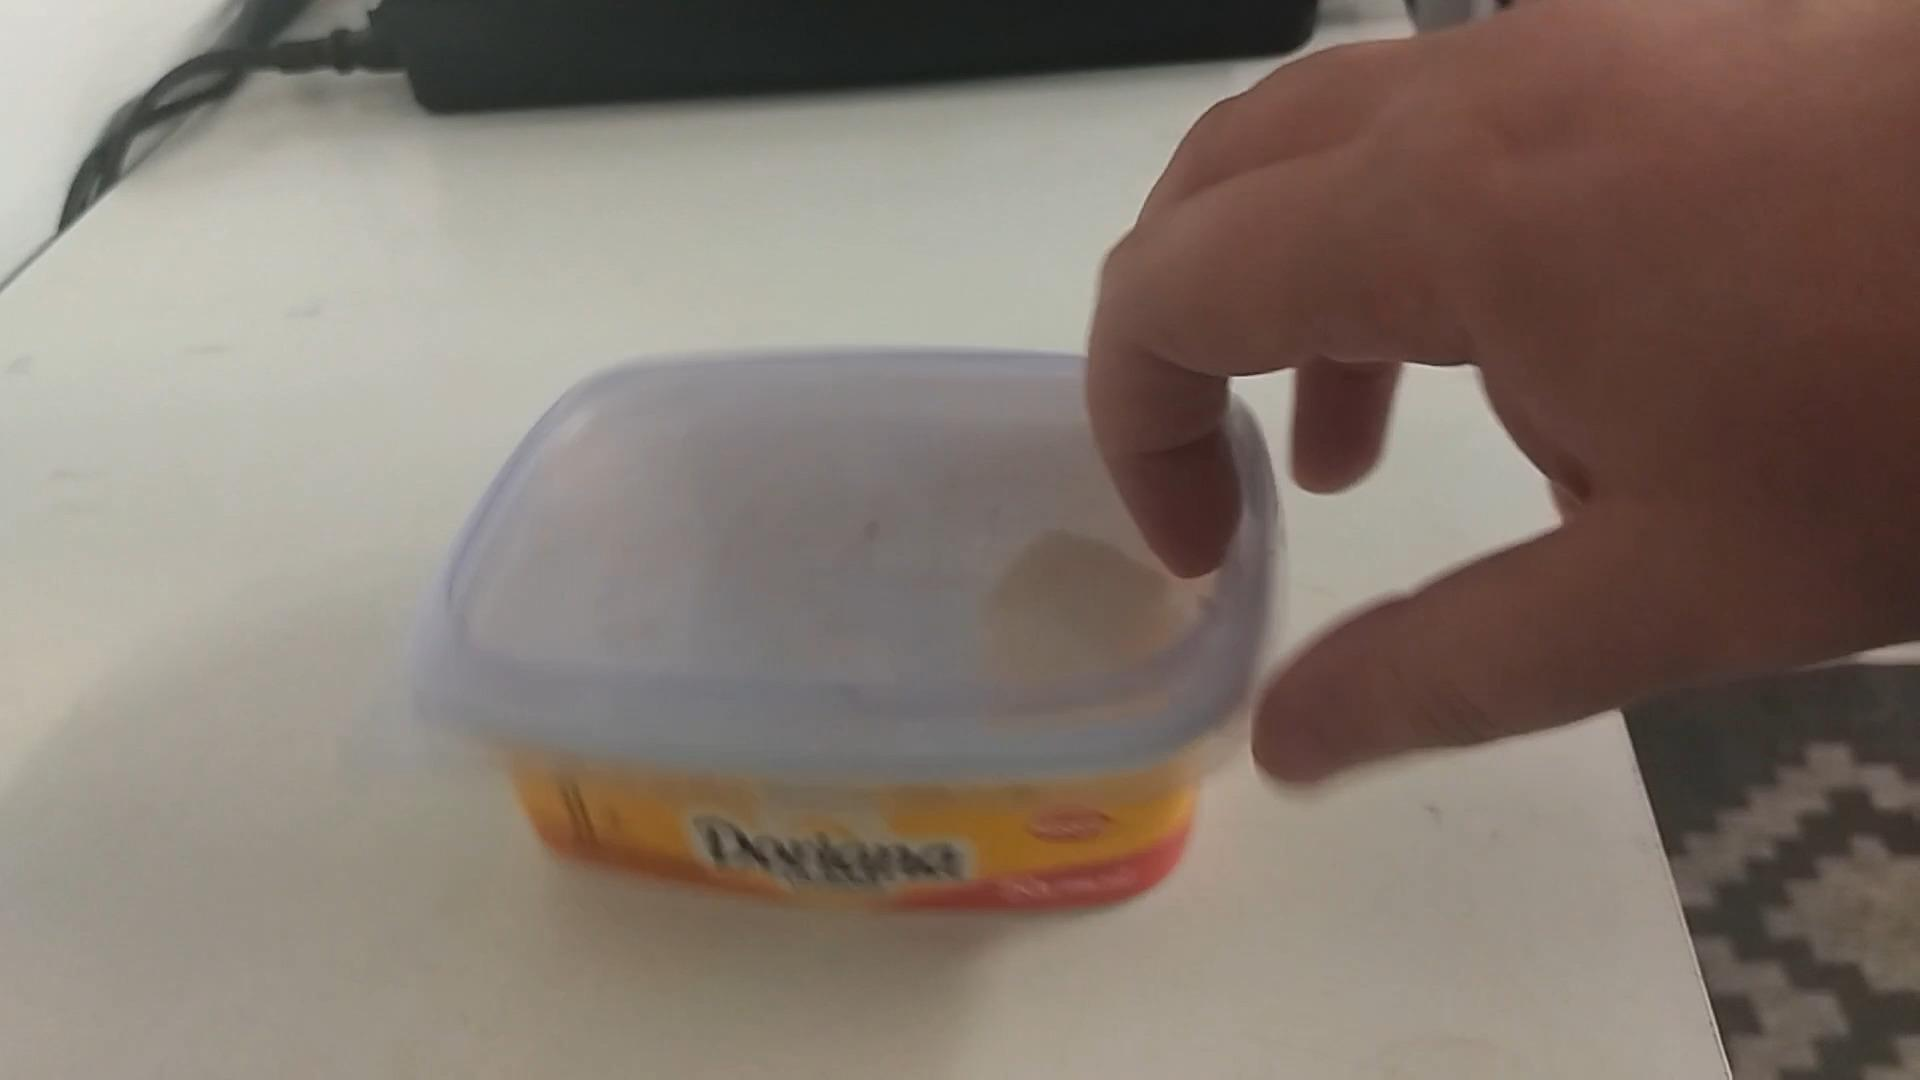butter: (406, 353, 1274, 915)
